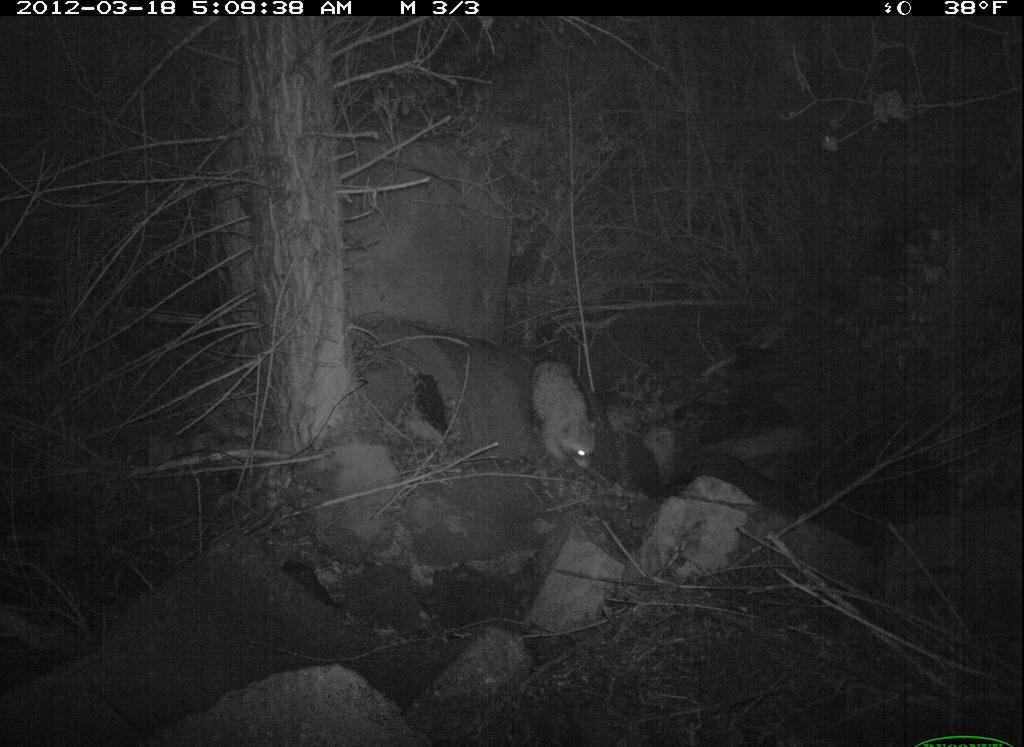raccoon: (518, 340, 616, 486)
